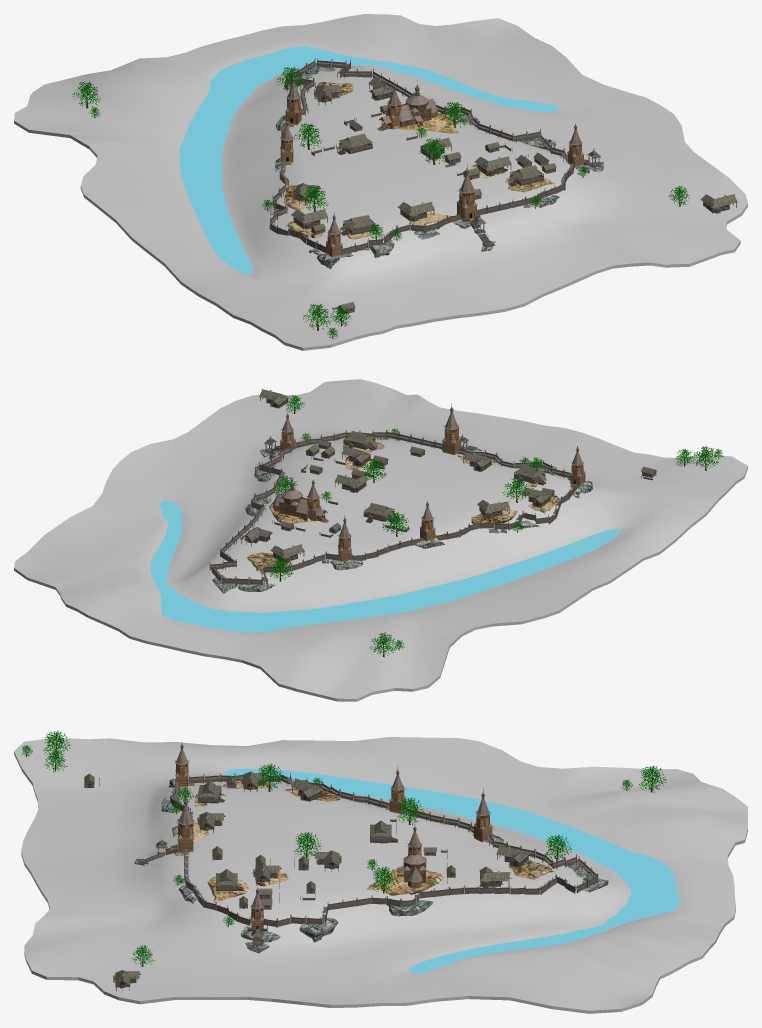
The model's file is Detinec7-.FBX.
3 views of the same model, one above another, from view 1: azimuth 30°, elevation 25°; view 2: azimuth 150°, elevation 25°; view 3: azimuth 270°, elevation 25° (orthographic). The views are drawn at different scales.
Parts seen in each view (by area): view 1: Plane001, Line001, wooden_house_05_a052, Church005, Foliage005, wooden_house_04_a004, wooden_house_05_a020, Box022; view 2: Plane001, Line001, wooden_house_05_a052, Church005, Foliage005, wooden_house_04_a004, wooden_house_05_a020, Box022; view 3: Plane001, Line001, wooden_house_05_a052, Foliage005, Church005, wooden_house_04_a004, wooden_house_05_a020, Box022.
Part boxes in pixels (x1,y1,x2,y2): Plane001: (14, 14, 747, 350); Line001: (179, 46, 560, 274); wooden_house_05_a052: (269, 58, 574, 254); Church005: (279, 74, 585, 257); Foliage005: (72, 67, 689, 339); wooden_house_04_a004: (291, 76, 737, 229); wooden_house_05_a020: (310, 104, 556, 313); Box022: (269, 64, 603, 269); Plane001: (14, 379, 747, 701); Line001: (150, 500, 619, 632); wooden_house_05_a052: (209, 430, 578, 586); Church005: (273, 403, 585, 561); Foliage005: (266, 395, 723, 657); wooden_house_04_a004: (241, 389, 550, 563); wooden_house_05_a020: (272, 431, 656, 537); Box022: (212, 437, 592, 593); Plane001: (14, 737, 747, 1013); Line001: (223, 768, 679, 973); wooden_house_05_a052: (170, 771, 598, 927); Foliage005: (21, 730, 666, 966); Church005: (170, 742, 492, 931); wooden_house_04_a004: (113, 771, 529, 991); wooden_house_05_a020: (84, 773, 455, 909); Box022: (134, 779, 608, 953).
Size of the model in its own units: 41.34 by 6.54 by 48.01.
